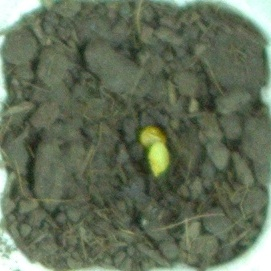pepper seed: (60, 52, 233, 231), (54, 49, 223, 197)
